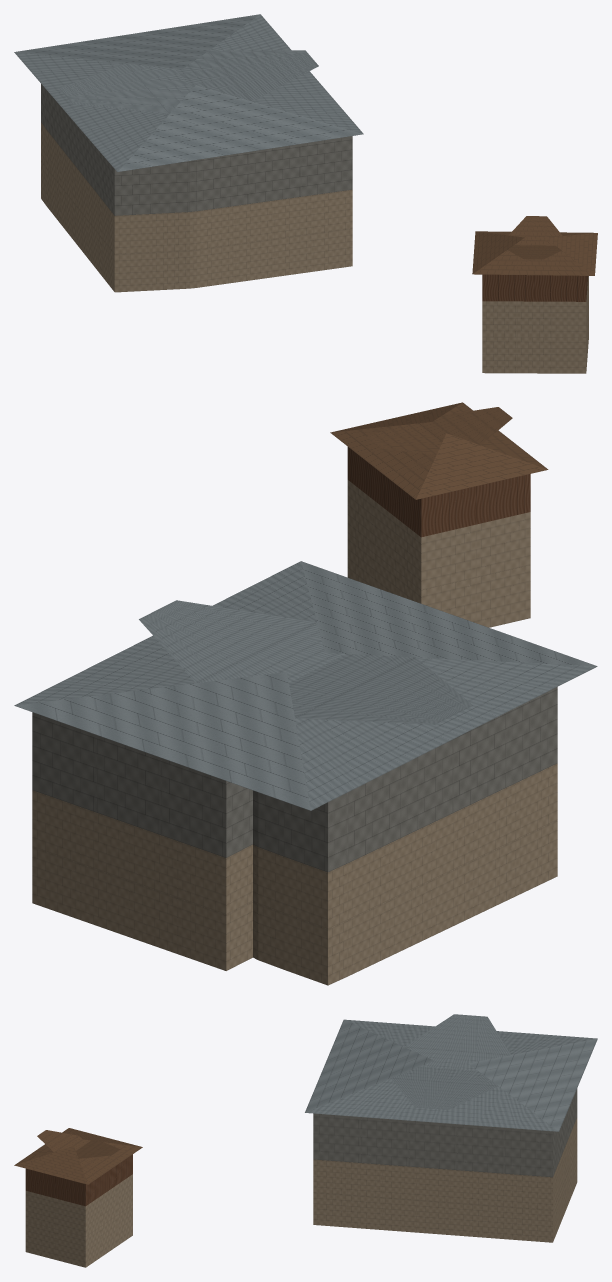
File: bld_c38_35_295.gltf
The picture shows the model from 3 angles, top to bottom: view 1: azimuth 30°, elevation 25°; view 2: azimuth 150°, elevation 25°; view 3: azimuth 270°, elevation 25°; orthographic projection. The views are drawn at different scales.
Visible parts, largest first — view 1: bld_c38_35_295; view 2: bld_c38_35_295; view 3: bld_c38_35_295.
Part boxes in pixels (box(x1,y1,x2,y2)): bld_c38_35_295: box(14, 14, 597, 373); bld_c38_35_295: box(14, 402, 597, 985); bld_c38_35_295: box(14, 1014, 597, 1267).
Bounding box in the file's own units: 21.68 × 9.4 × 38.78.
Materials: 5 (5 with a texture image).
